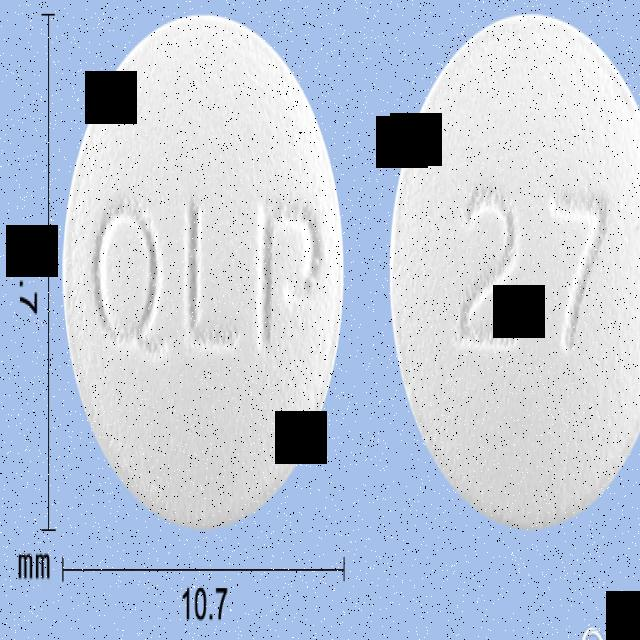Cyrus: (61, 7, 346, 531), (388, 7, 640, 527)
